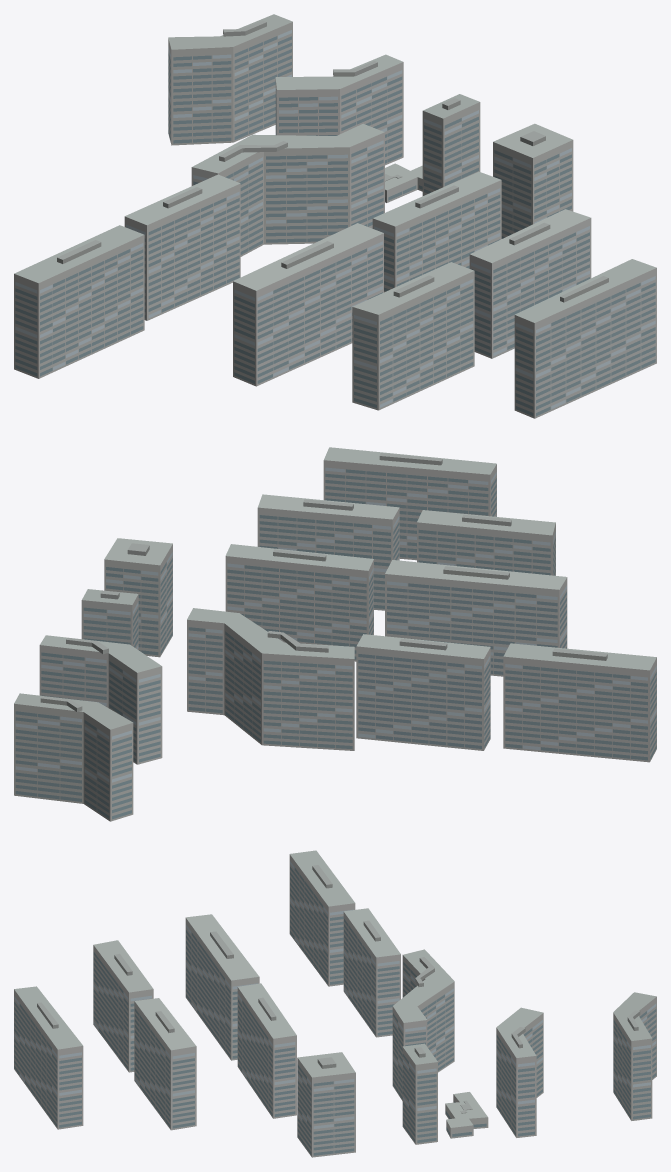
File: apt-a13204104.glb
3 renders of one model, top to bottom at view 1: azimuth 30°, elevation 25°; view 2: azimuth 150°, elevation 25°; view 3: azimuth 270°, elevation 25°, orthographic. The views are drawn at different scales.
Visible parts, largest first — view 1: apt-a13204104; view 2: apt-a13204104; view 3: apt-a13204104.
Part boxes in pixels (left/top/right/bottom): apt-a13204104: left=14, top=14, right=656, bottom=418; apt-a13204104: left=14, top=447, right=656, bottom=821; apt-a13204104: left=14, top=850, right=656, bottom=1157.
Bounding box in the file's own units: 278 × 47.81 × 333.
